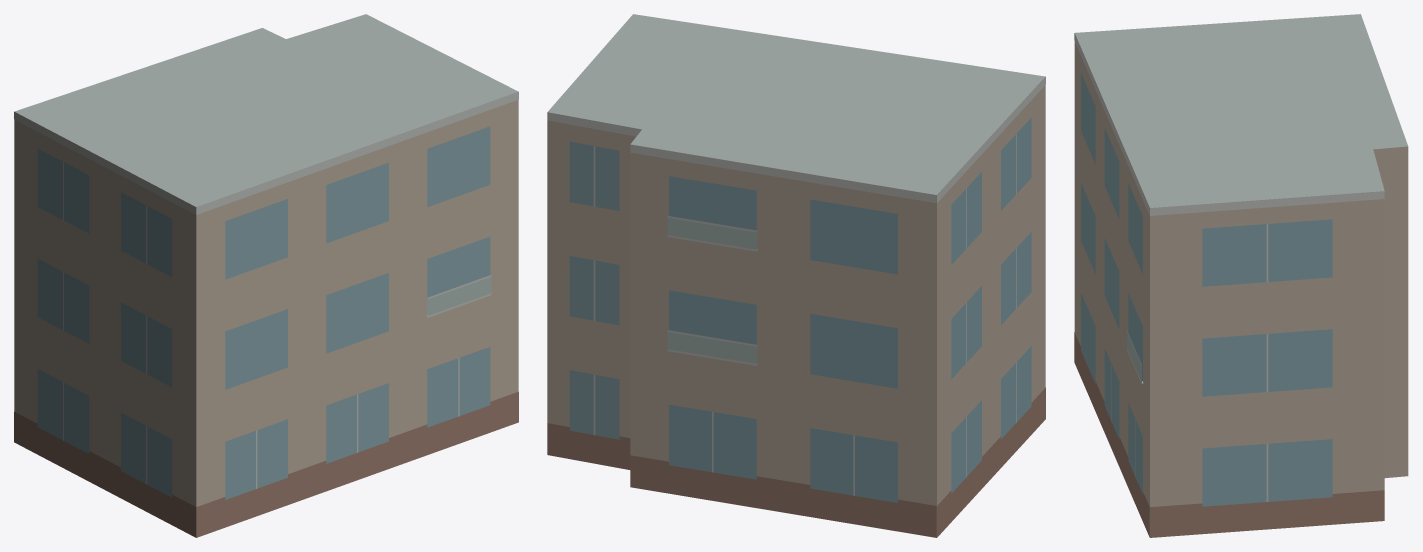
Rendered from survey-upis-32636521.glb.
The picture shows the model from 3 angles, left to right: view 1: azimuth 30°, elevation 25°; view 2: azimuth 150°, elevation 25°; view 3: azimuth 270°, elevation 25°; orthographic projection. The views are drawn at different scales.
Visible parts, largest first — view 1: survey-upis-32636521.tmp; view 2: survey-upis-32636521.tmp; view 3: survey-upis-32636521.tmp.
Boxes of the visible parts, <box> form: survey-upis-32636521.tmp: <box>14,14,518,537</box>; survey-upis-32636521.tmp: <box>547,14,1045,537</box>; survey-upis-32636521.tmp: <box>1074,14,1408,537</box>.
Bounding box in the file's own units: 12.88 × 10.2 × 9.37.
